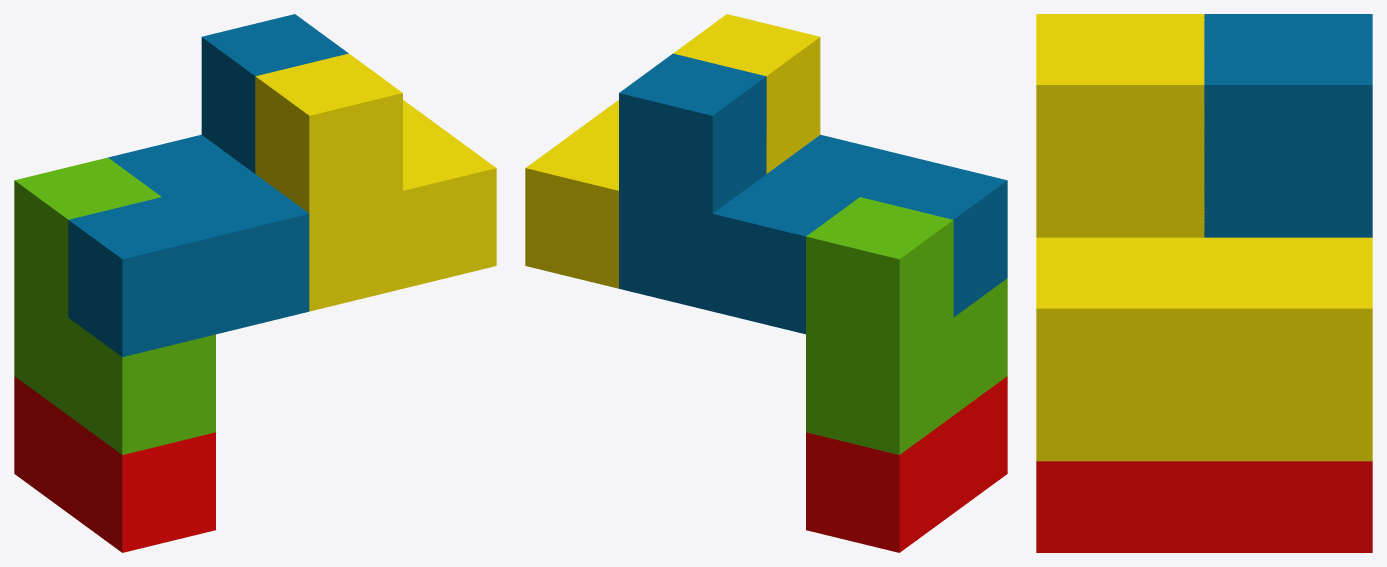
The picture shows the model from 3 angles, left to right: view 1: azimuth 30°, elevation 25°; view 2: azimuth 150°, elevation 25°; view 3: azimuth 270°, elevation 25°; orthographic projection. The views are drawn at different scales.
Visible parts, largest first — view 1: mergedBlocks(Clone); view 2: mergedBlocks(Clone); view 3: mergedBlocks(Clone).
Boxes of the visible parts, x1,y1,x2,y2 form: mergedBlocks(Clone): (14, 14, 496, 552); mergedBlocks(Clone): (525, 14, 1007, 552); mergedBlocks(Clone): (1036, 14, 1372, 552).
Size of the model in its own units: 4 by 4 by 2.
4 materials, 4 textured.
